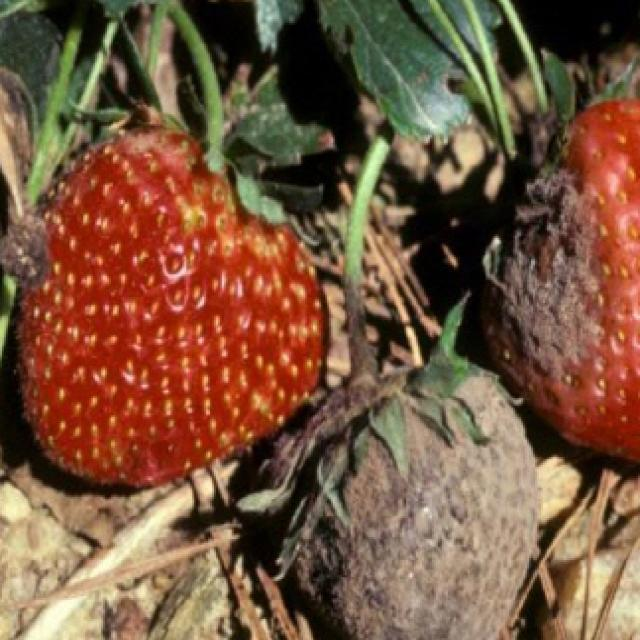Gray Mold: (237, 288, 544, 640), (486, 134, 621, 388)
